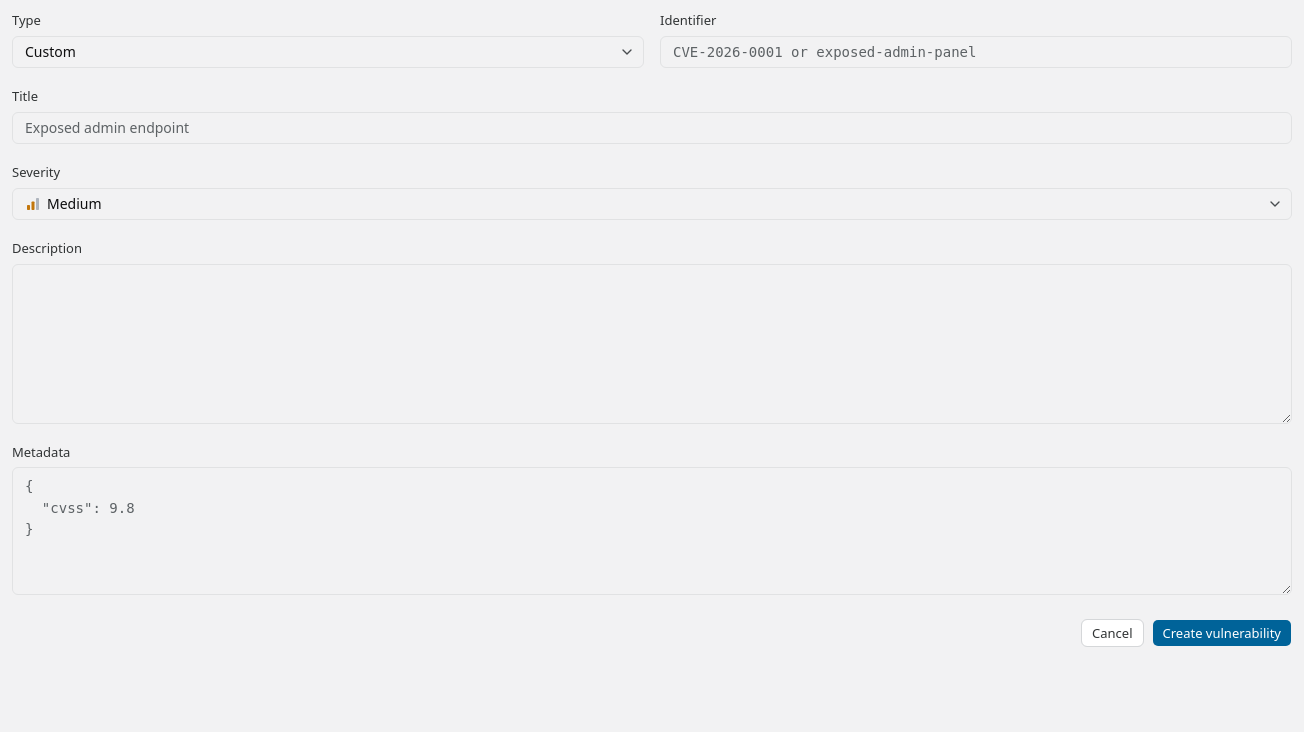
it: VulnerabilityForm › lists severities most severe first, each with its icon
Expected: the 2nd icon is shown, [25, 196, 41, 212]
Click the dropdown named "severity" at (74, 203), box [12, 188, 1292, 220]
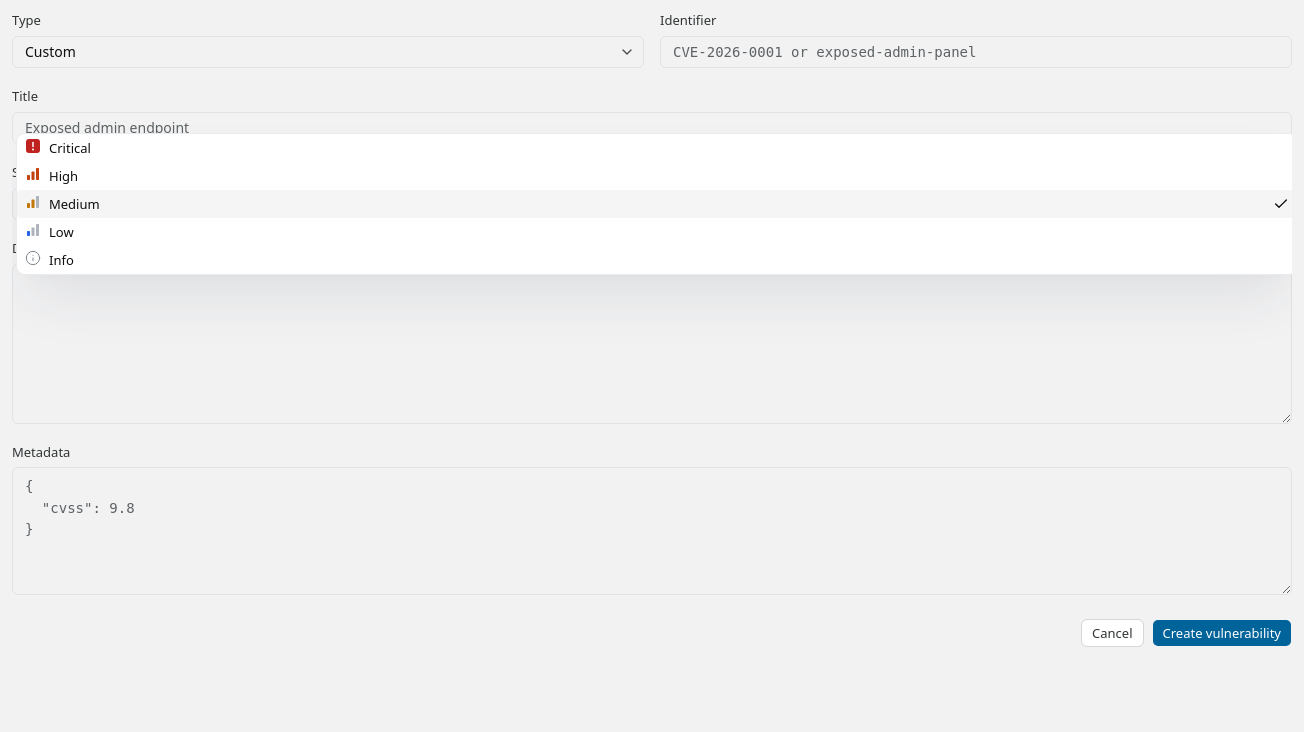
Result: the icon next to "Critical" is shown at [25, 138, 41, 154]
Result: the icon next to "High" is shown at [25, 166, 41, 182]
Result: the 3rd icon is shown at [25, 194, 41, 210]
